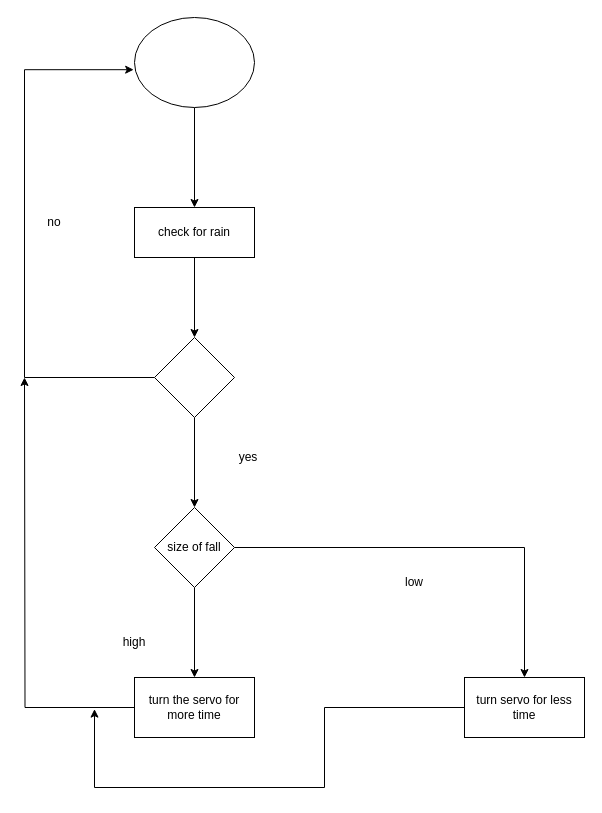
This 602x813 diagram has some shape labels left out. Here are the shapes that lost their labels. From the top down, the centre of each, then its label:
(x=194, y=62): start
(x=194, y=377): rain check
